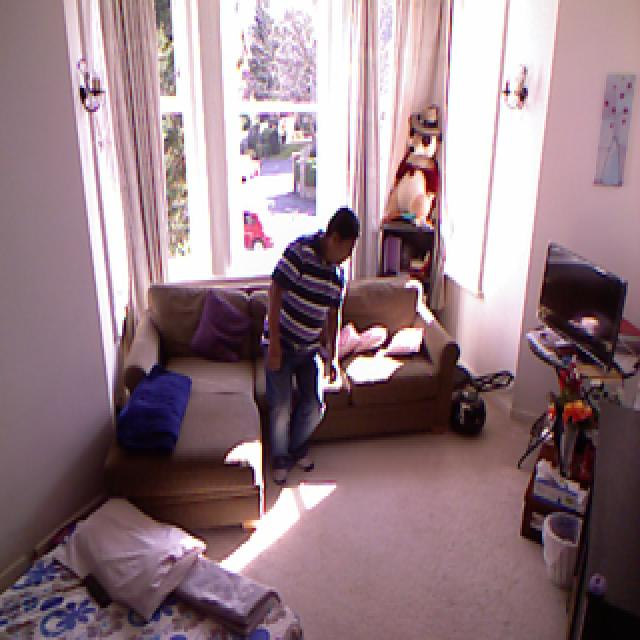bending: (259, 198, 363, 484)
